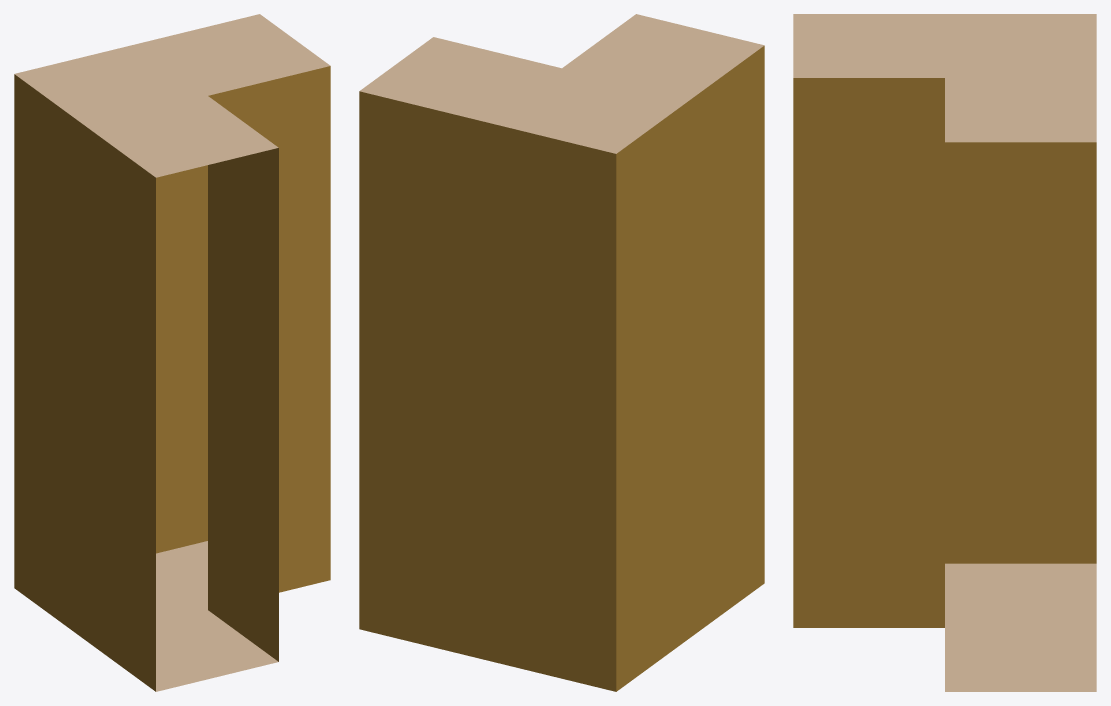
File: CornerWall_NoSides.fbx
3 views of the same model, side by side, from view 1: azimuth 30°, elevation 25°; view 2: azimuth 150°, elevation 25°; view 3: azimuth 270°, elevation 25° (orthographic). The views are drawn at different scales.
Parts seen in each view (by area): view 1: CornerWall_NoSides; view 2: CornerWall_NoSides; view 3: CornerWall_NoSides.
Part boxes in pixels (x1,y1,x2,y2): CornerWall_NoSides: (14,14,330,691); CornerWall_NoSides: (359,14,764,691); CornerWall_NoSides: (793,14,1096,691).
Size of the model in its own units: 200 by 400 by 200.
